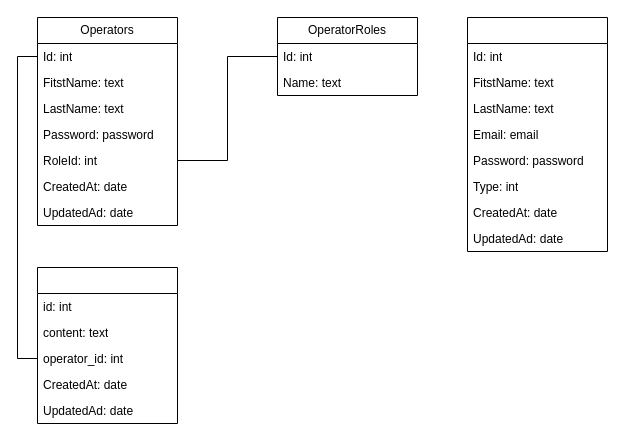
Image size: 625x444. Some labels were removed from this diagram. Here are the shapes that lost their labels. From the top down, the box of each, then its label:
(466, 16, 608, 252): Clients
(36, 266, 178, 424): Posts
